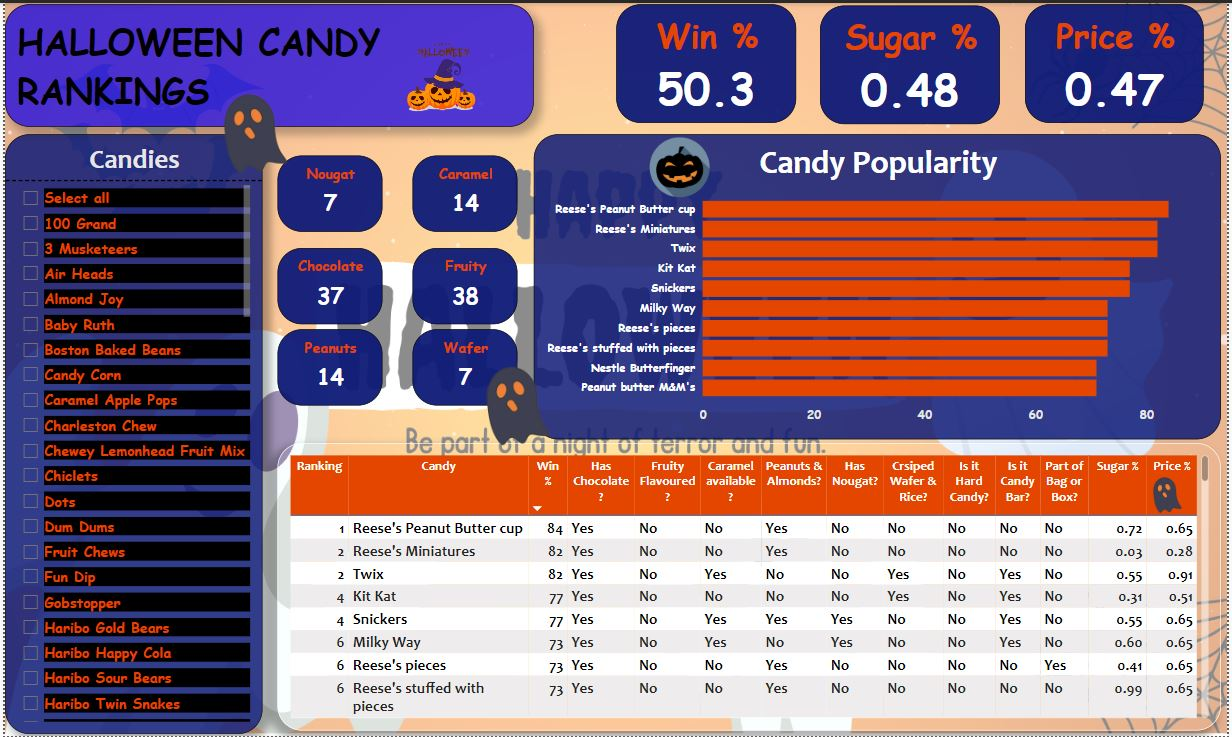

Layout of this report page (visuals, bound fields, positions):
{"tool":"powerbi","page":{"name":"Page 1","canvas":[1500,900],"ordinal":0},"visuals":[{"type":"card","title":"Sugar %","fields":{"Values":["Avg(candy-data.sugarpercent)"]},"box":[1000,3.1,220.9,145.7],"z":0},{"type":"clusteredBarChart","title":"Candy Popularity","fields":{"Y":["Avg(candy-data.winpercent)"],"Category":["candy-data.competitorname"]},"box":[648.8,161,843.6,374.2],"z":1000},{"type":"slicer","title":"Candies","fields":{"Values":["candy-data.competitorname"]},"box":[0,161,316,736.2],"z":2000},{"type":"card","title":"Win %","fields":{"Values":["Avg(candy-data.winpercent)"]},"box":[750,1.5,220.9,145.7],"z":3000},{"type":"card","title":"Price %","fields":{"Values":["Avg(candy-data.pricepercent)"]},"box":[1251.5,1.5,219.3,145.7],"z":4000},{"type":"tableEx","fields":{"Values":["Sum(candy-data.Ranking)","candy-data.competitorname","Sum(candy-data.winpercent)","candy-data.Has Chocolate?","candy-data.Fruity Flavoured?","candy-data.Caramel available?","candy-data.Peanuts & Almonds?","candy-data.Has Nougat?","candy-data.Crsiped Wafer & Rice?","candy-data.Is it Hard Candy?","candy-data.Is it Candy Bar?","candy-data.Part of Bag or Box?"]},"box":[334.4,539.9,1158,352.8],"z":5000},{"type":"textbox","box":[0,1.5,648.8,150.3],"z":6000},{"type":"card","title":"Nougat","fields":{"Values":["candy-data.Contain Nougat"]},"box":[334.4,187.1,128.8,93.6],"z":6001},{"type":"card","title":"Caramel","fields":{"Values":["candy-data.Caramel Count"]},"box":[500,187.1,128.8,93.6],"z":6002},{"type":"card","title":"Chocolate","fields":{"Values":["candy-data.Chocolate_Candy_Count"]},"box":[334.4,300.6,128.8,93.6],"z":6003},{"type":"card","title":"Fruity","fields":{"Values":["candy-data.Fruity Flavoured Count"]},"box":[500,300.6,128.8,93.6],"z":6004},{"type":"card","title":"Peanuts","fields":{"Values":["candy-data.Peanuts & Almonds Count"]},"box":[334.4,400.3,128.8,93.6],"z":6005},{"type":"card","title":"Wafer","fields":{"Values":["candy-data.Contain Crisped Rice Wafer"]},"box":[500,400.3,128.8,93.6],"z":6006},{"type":"image","box":[386.5,3.1,297.5,176.4],"z":6007},{"type":"image","box":[151.8,4.6,311.4,311.4],"z":6008},{"type":"image","box":[1352.8,447.9,147.2,311.4],"z":6009},{"type":"image","box":[760.7,130.4,135,142.6],"z":6010},{"type":"image","box":[473.9,339,311.4,311.4],"z":6011}]}

Visuals, with their boxes in screenshot pixels (x1, y1, x2, y2), scaled from the page's 1500x900 canvas onto the 1232x737 screenshot:
"Sugar %" card: bbox(821, 3, 1003, 122)
"Candy Popularity" clusteredBarChart: bbox(533, 132, 1226, 438)
"Candies" slicer: bbox(0, 132, 260, 735)
"Win %" card: bbox(616, 1, 797, 121)
"Price %" card: bbox(1028, 1, 1208, 121)
tableEx - Sum(candy-data.Ranking) x candy-data.competitorname: bbox(275, 442, 1226, 731)
textbox: bbox(0, 1, 533, 124)
"Nougat" card: bbox(275, 153, 380, 230)
"Caramel" card: bbox(411, 153, 516, 230)
"Chocolate" card: bbox(275, 246, 380, 323)
"Fruity" card: bbox(411, 246, 516, 323)
"Peanuts" card: bbox(275, 328, 380, 404)
"Wafer" card: bbox(411, 328, 516, 404)
image: bbox(317, 3, 562, 147)
image: bbox(125, 4, 380, 259)
image: bbox(1111, 367, 1231, 622)
image: bbox(625, 107, 736, 224)
image: bbox(389, 278, 645, 533)
